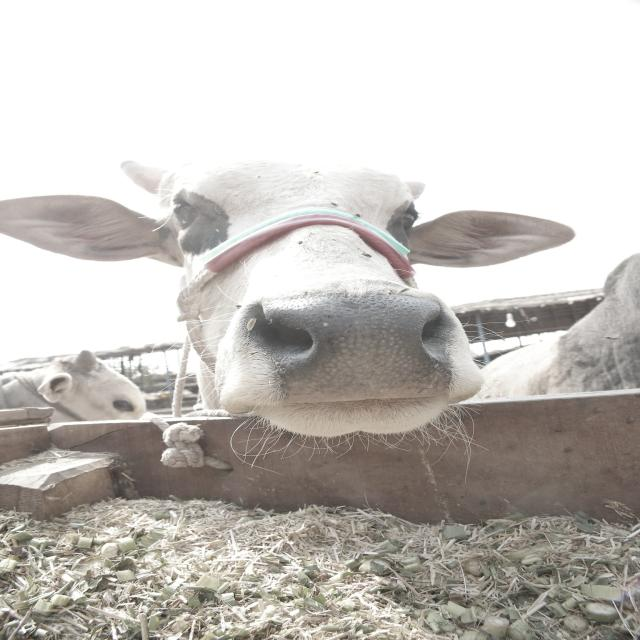muzzles: (233, 282, 467, 410)
